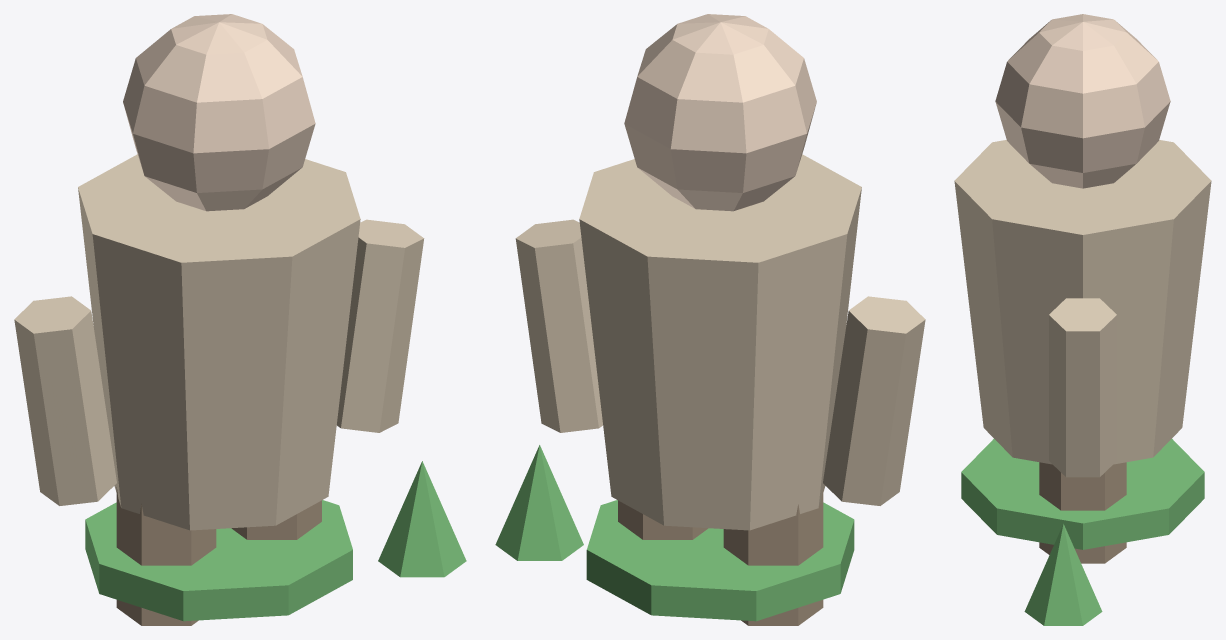
Rendered from forester.glb.
The picture shows the model from 3 angles, left to right: view 1: azimuth 30°, elevation 25°; view 2: azimuth 150°, elevation 25°; view 3: azimuth 270°, elevation 25°; orthographic projection. The views are drawn at different scales.
Parts seen in each view (by area): view 1: forester; view 2: forester; view 3: forester.
Boxes of the visible parts, box(x1,y1,x2,y2) form: forester: box(14, 14, 466, 625); forester: box(495, 14, 925, 625); forester: box(954, 14, 1211, 625).
Size of the model in its own units: 0.4381 by 0.575 by 0.264.
